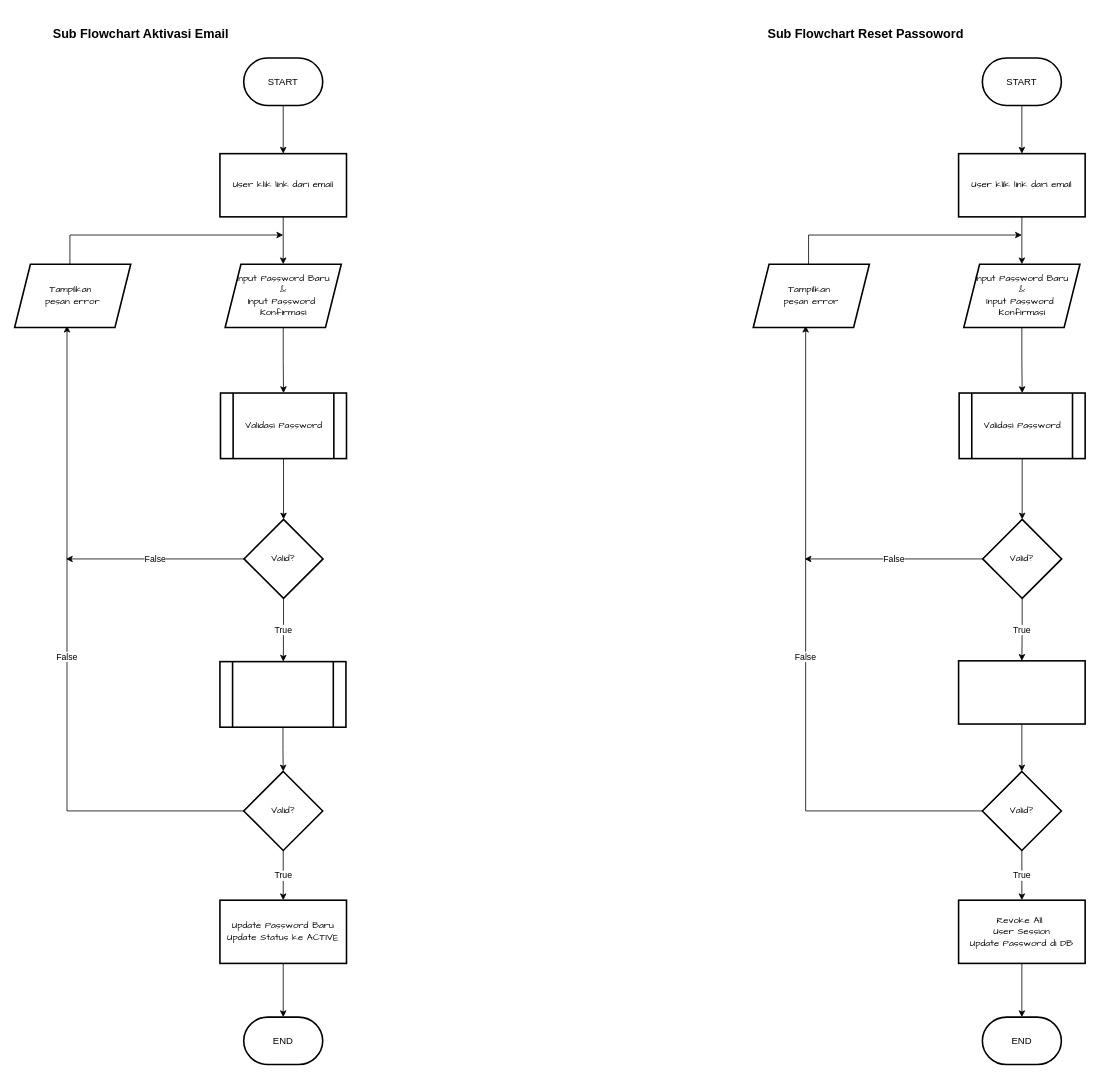
Some shapes in this 1100 by 1078 pixel diagram are drawn without their labels. Each missing label, with the box of its shape:
Cek token di redis: (957, 660, 1086, 724)
Validasi Email DB: (219, 660, 346, 728)
